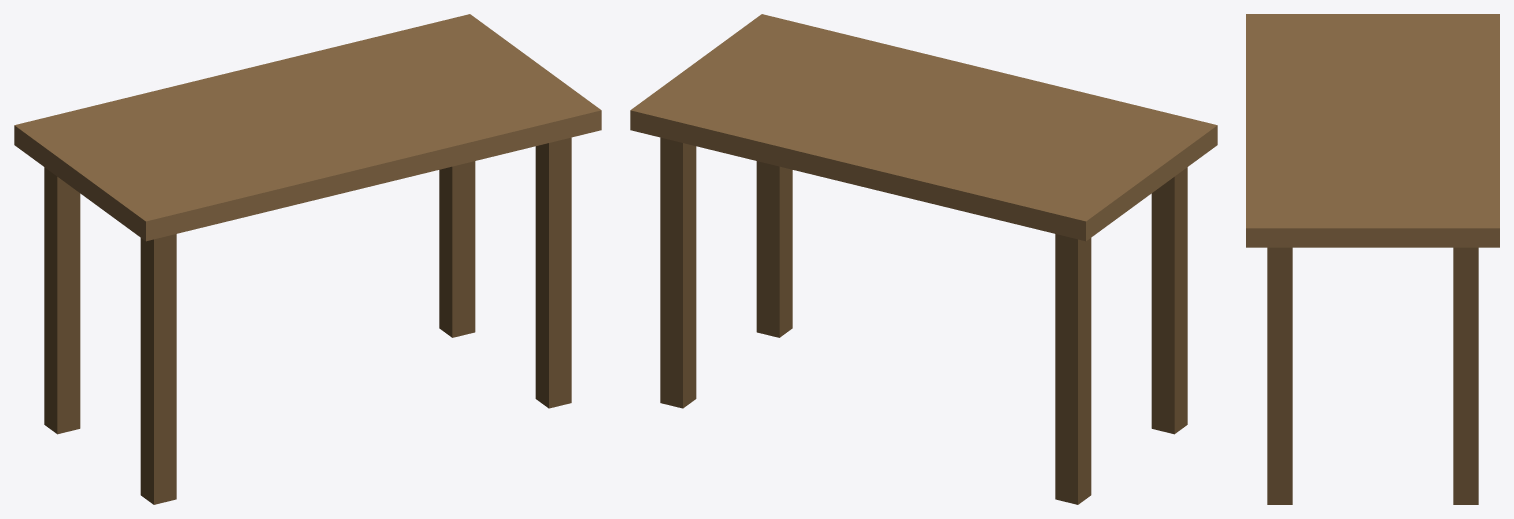
File: desk.glb
3 renders of one model, left to right at view 1: azimuth 30°, elevation 25°; view 2: azimuth 150°, elevation 25°; view 3: azimuth 270°, elevation 25°, orthographic. The views are drawn at different scales.
Visible parts, largest first — view 1: desk; view 2: desk; view 3: desk.
Boxes of the visible parts, x1,y1,x2,y2 form: desk: (14, 14, 601, 504); desk: (630, 14, 1217, 504); desk: (1246, 14, 1499, 504).
Size of the model in its own units: 1.2 by 0.745 by 0.6.
